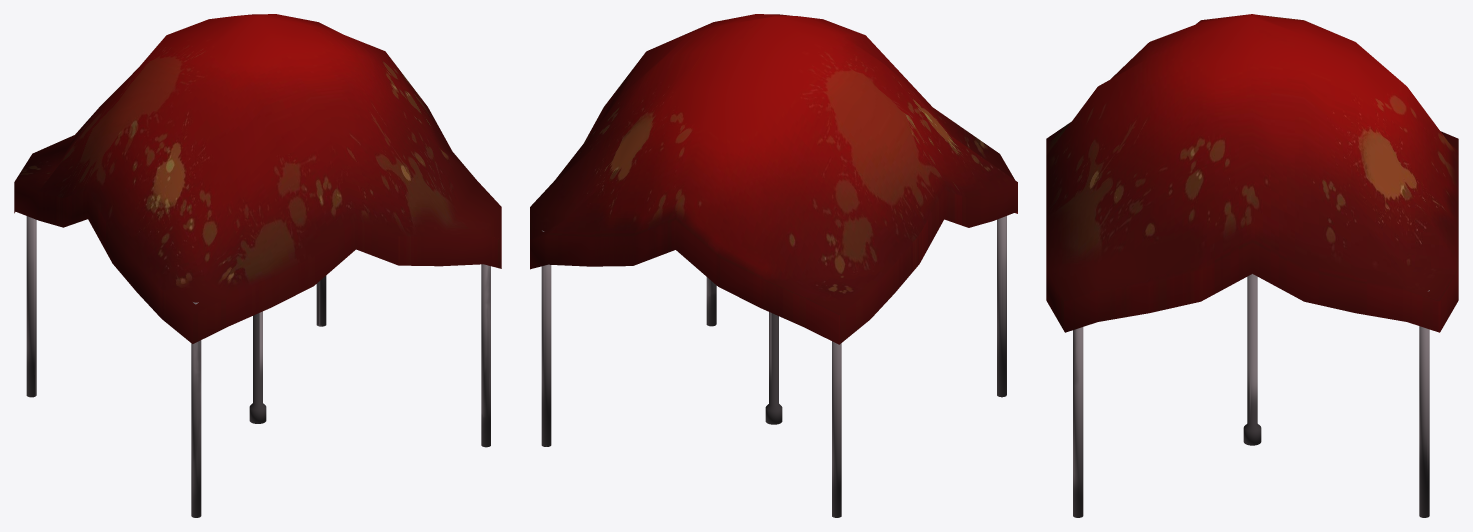
Rendered from carpa1.fbx.
3 renders of one model, left to right at view 1: azimuth 30°, elevation 25°; view 2: azimuth 150°, elevation 25°; view 3: azimuth 270°, elevation 25°, orthographic. The views are drawn at different scales.
Parts seen in each view (by area): view 1: SC_Carpa; view 2: SC_Carpa; view 3: SC_Carpa.
Part boxes in pixels (box(x1,y1,x2,y2)): SC_Carpa: box(14, 14, 501, 517); SC_Carpa: box(530, 14, 1017, 517); SC_Carpa: box(1046, 14, 1458, 517).
Bounding box in the file's own units: 3392 × 3853 × 3392.
Materials: 2 (2 with a texture image).
